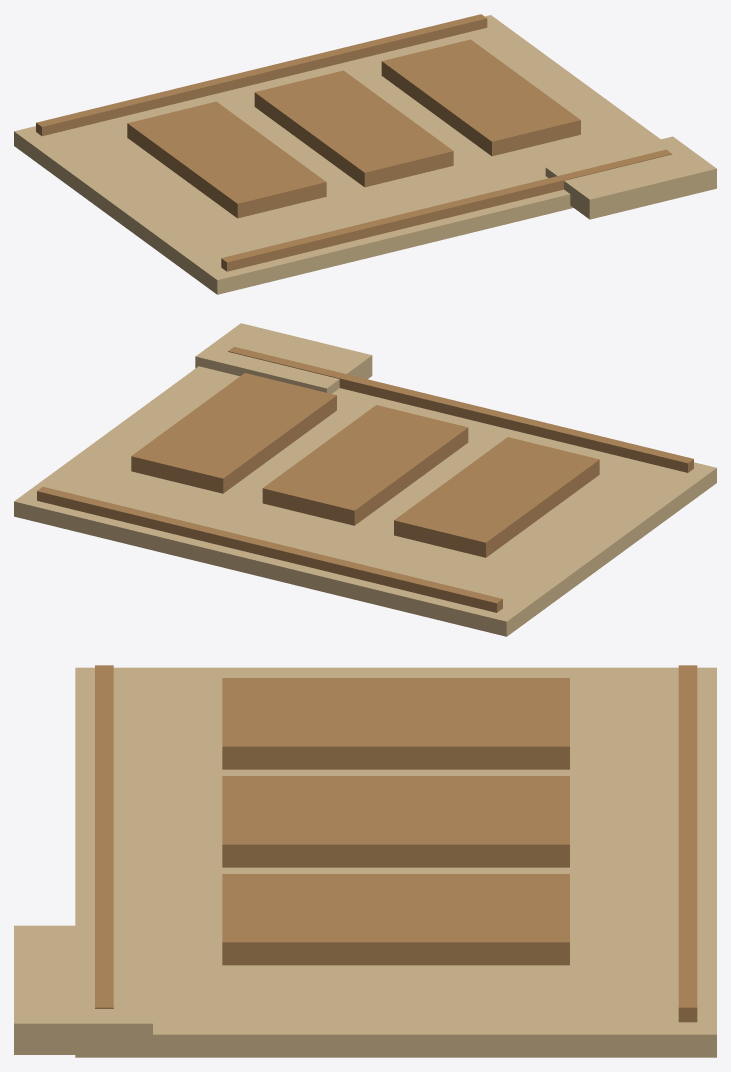
Rendered from OysterBeds.glb.
The picture shows the model from 3 angles, top to bottom: view 1: azimuth 30°, elevation 25°; view 2: azimuth 150°, elevation 25°; view 3: azimuth 270°, elevation 25°; orthographic projection. The views are drawn at different scales.
Visible parts, largest first — view 1: hand-pump-static-oyster-beds-stone, hand-pump-static-oyster-beds-timber; view 2: hand-pump-static-oyster-beds-stone, hand-pump-static-oyster-beds-timber; view 3: hand-pump-static-oyster-beds-stone, hand-pump-static-oyster-beds-timber.
Part boxes in pixels (x1,y1,x2,y2): hand-pump-static-oyster-beds-stone: (14,15,716,294); hand-pump-static-oyster-beds-timber: (36,14,672,271); hand-pump-static-oyster-beds-stone: (14,323,716,636); hand-pump-static-oyster-beds-timber: (37,346,693,612); hand-pump-static-oyster-beds-stone: (14,667,716,1057); hand-pump-static-oyster-beds-timber: (95,665,697,1022).
Size of the model in its own units: 7.55 by 0.61 by 6.07.
